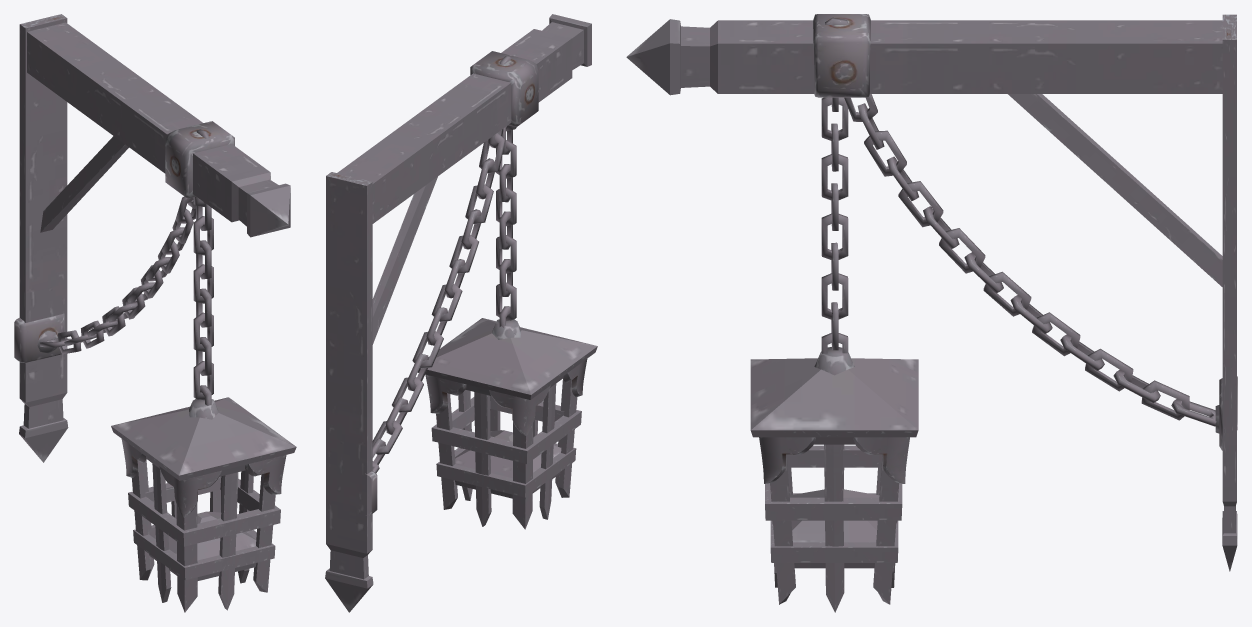
Rendered from lantern_wall_uncompressed.glb.
3 views of the same model, side by side, from view 1: azimuth 30°, elevation 25°; view 2: azimuth 150°, elevation 25°; view 3: azimuth 270°, elevation 25° (orthographic). The views are drawn at different scales.
Visible parts, largest first — view 1: Lantern_Wall; view 2: Lantern_Wall; view 3: Lantern_Wall.
Part boxes in pixels (x1,y1,x2,y2): Lantern_Wall: (14, 14, 296, 612); Lantern_Wall: (325, 14, 597, 612); Lantern_Wall: (626, 14, 1237, 612).
Bounding box in the file's own units: 0.3573 × 1.34 × 1.3.
1 material, 1 textured.
